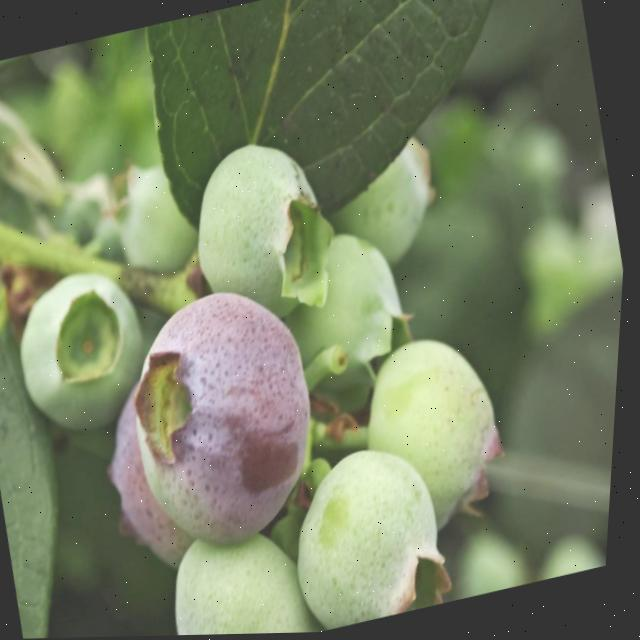Semi-RipeBlueBerry: (108, 275, 338, 559)
UnripeBlueBerry: (357, 325, 521, 544), (278, 441, 459, 635), (179, 126, 337, 307), (4, 257, 160, 430)
